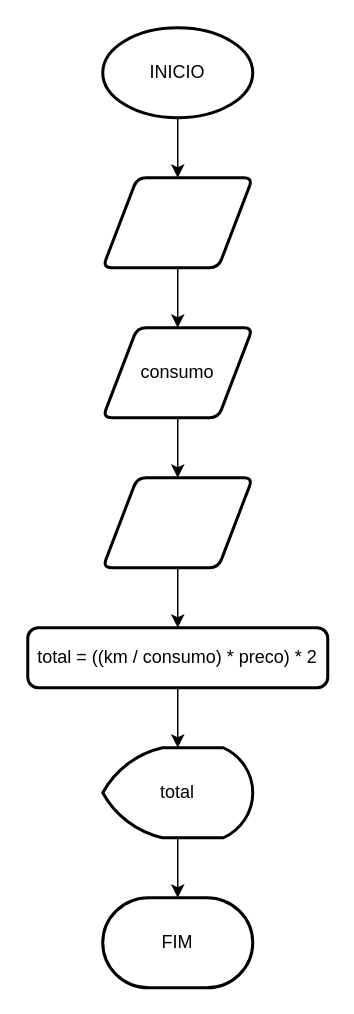
The diagram is 354 pixels wide and 1014 high, and some of its shapes have lost their labels. The centre of each missing label's shape, as x and y in pixels:
"km" belongs at point (177, 222).
"preco" belongs at point (177, 522).
